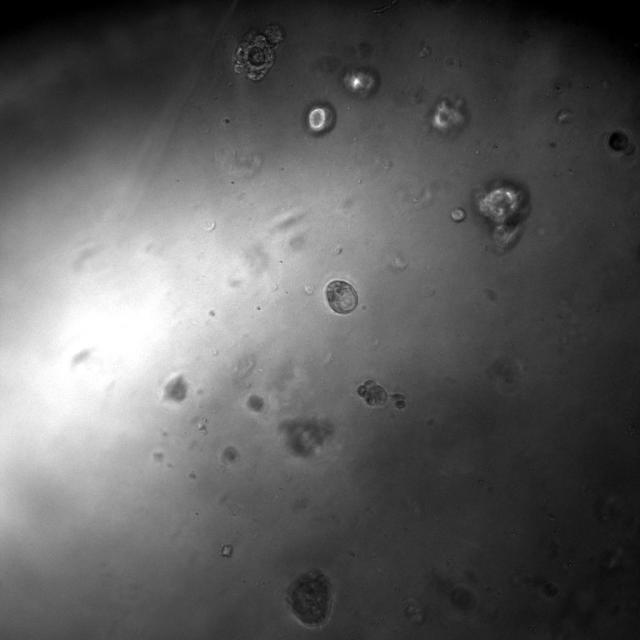organoid: (475, 181, 528, 250), (234, 23, 284, 81), (288, 571, 332, 626), (326, 280, 358, 313), (358, 379, 387, 406), (608, 131, 629, 151), (389, 394, 406, 408), (543, 582, 558, 597)
